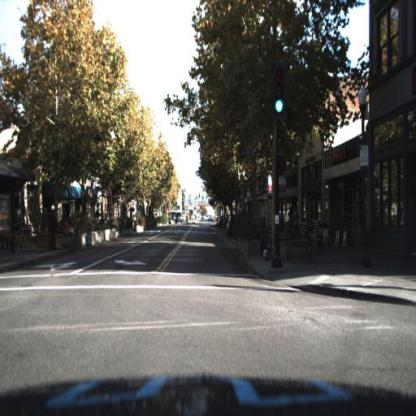car: (174, 208, 186, 228)
pedestrian: (47, 206, 61, 252), (11, 200, 23, 247), (292, 202, 303, 238), (292, 202, 303, 237), (47, 199, 55, 247)
trafficLight: (274, 68, 289, 118)
trafficLight-Green: (270, 63, 288, 126)
